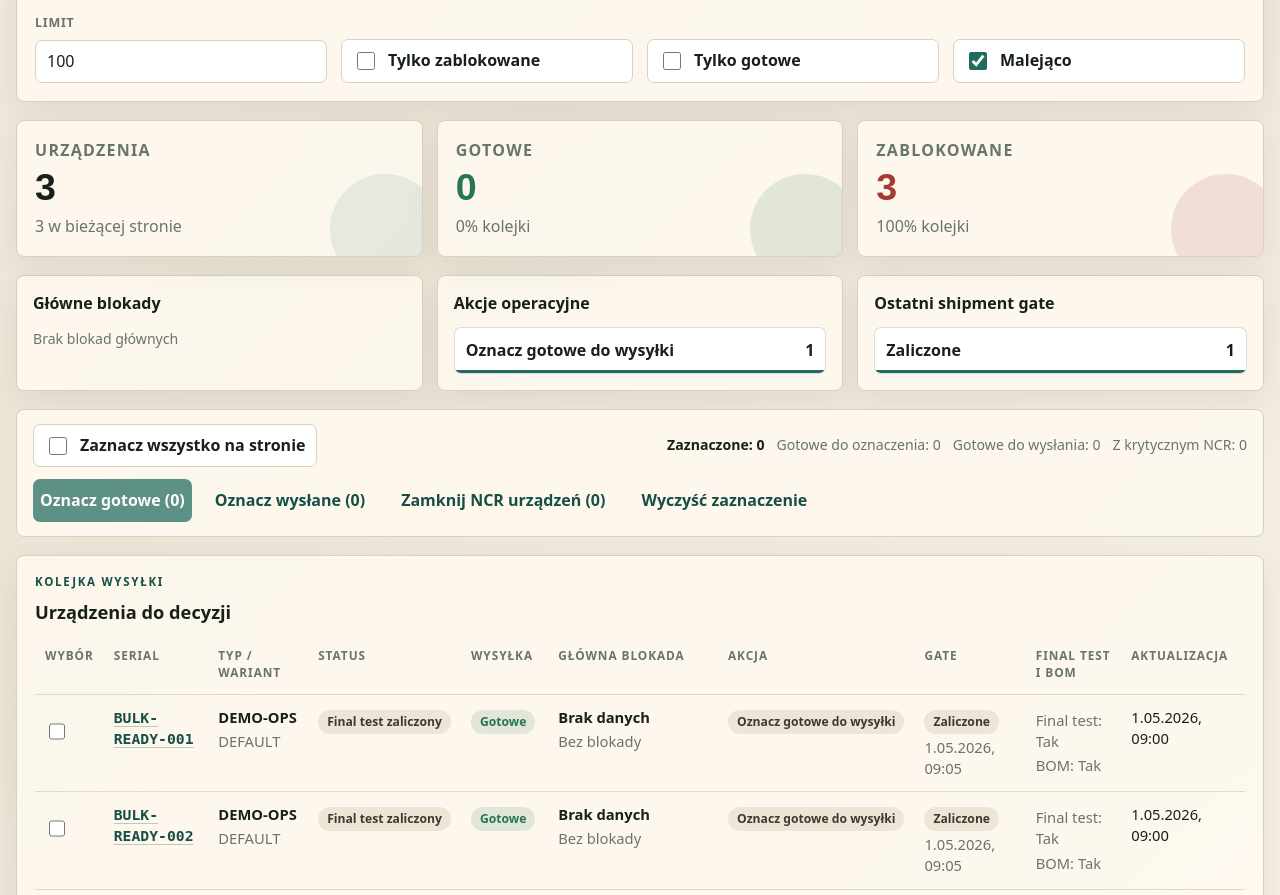
Scenario: App › marks selected shipment devices ready from bulk actions
This screenshot has width=1280, height=895.
(page scrolled)
Check: the button "BULK-READY-001" is shown, box [114,706,198,749]
Click the checkbox named "Zaznacz wszystkie urządzenia w kolejce wysyłki na stronie". click: point(58, 446)
box: [49,437,67,455]
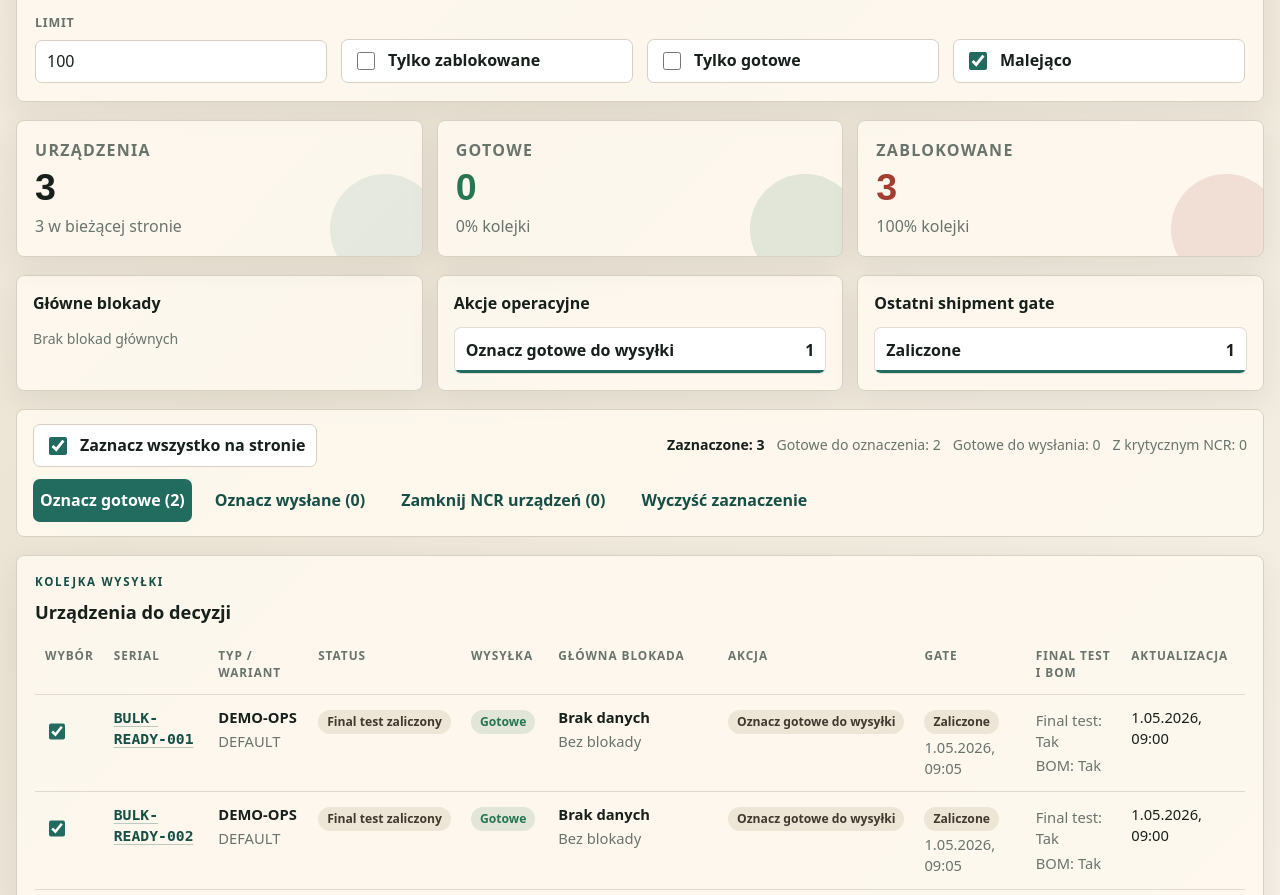
Check: the text "Zaznaczone: 3" is shown, box [667,435,764,456]
Check: the text "Gotowe do oznaczenia: 2" is shown, box [776,435,941,456]
Click the button "Oznacz gotowe (2)". click: point(112, 501)
box: [33,479,192,522]
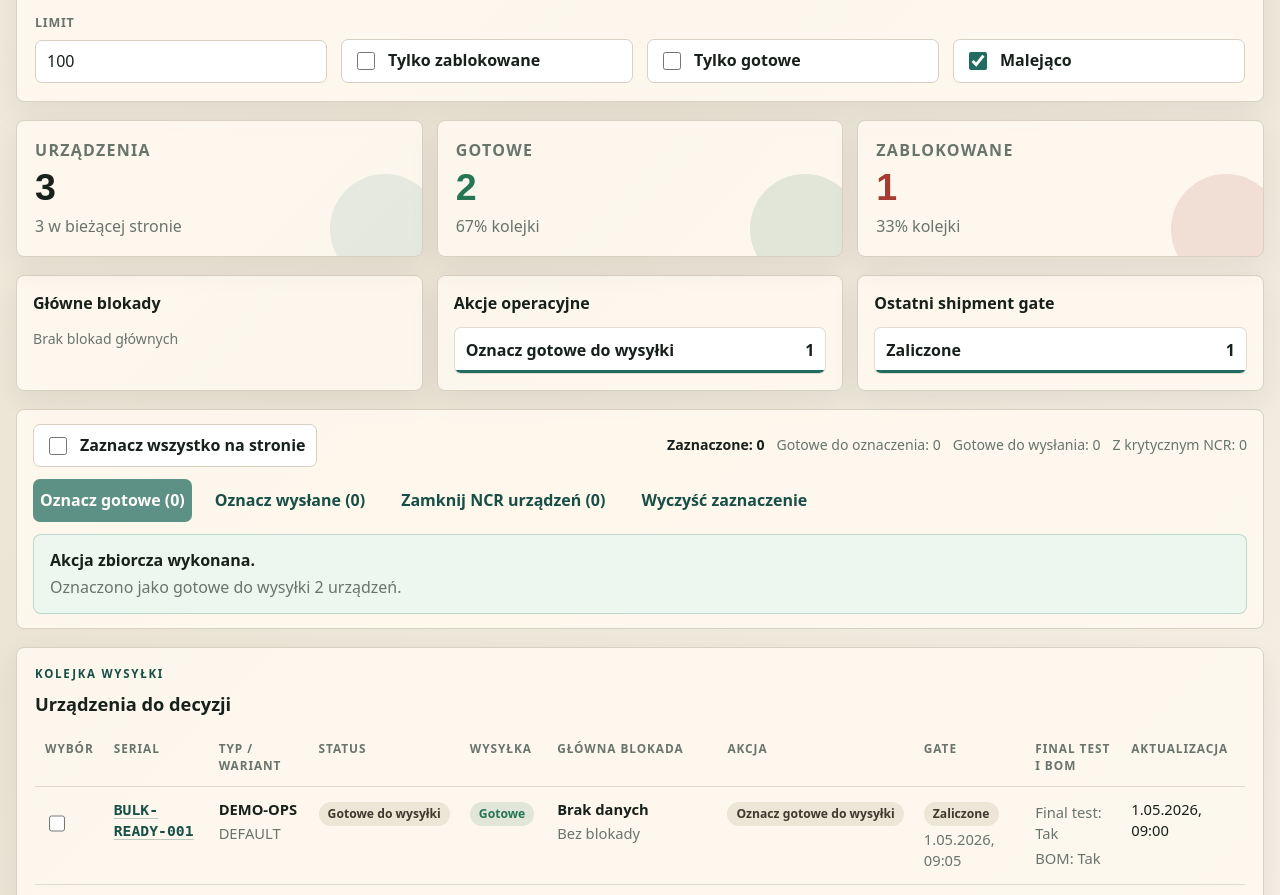
Check: the text "Oznaczono jako gotowe do wysyłki 2 urządzeń." is shown, box [50,576,402,598]
Check: the checkbox named "Zaznacz BULK-READY-001" is not checked, box [49,802,65,845]
